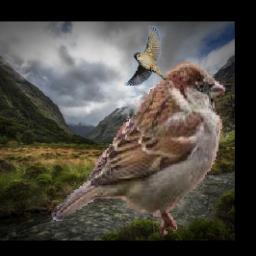Sparrow: (50, 63, 226, 236), (124, 26, 166, 86)
